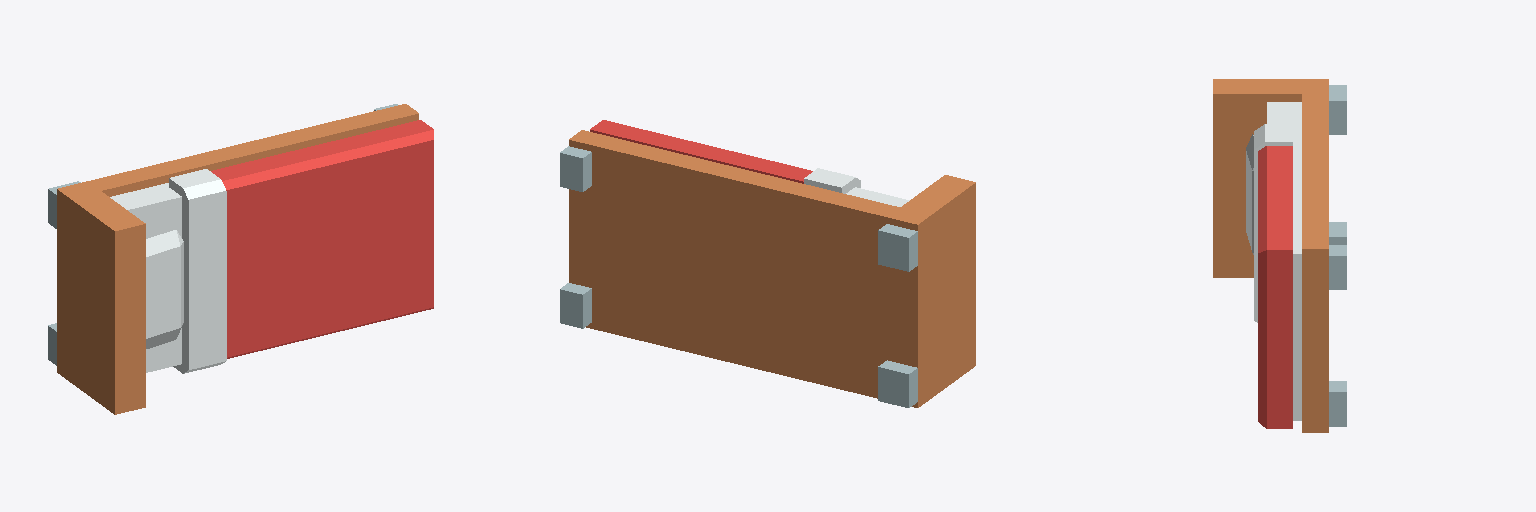
The model's file is bedSingle.obj.
3 views of the same model, side by side, from view 1: azimuth 30°, elevation 25°; view 2: azimuth 150°, elevation 25°; view 3: azimuth 270°, elevation 25° (orthographic).
Visible parts, largest first — view 1: bedSingle; view 2: bedSingle; view 3: bedSingle.
Boxes of the visible parts, x1=… form: bedSingle: x1=48, y1=104, x2=433, y2=414; bedSingle: x1=560, y1=120, x2=975, y2=407; bedSingle: x1=1213, y1=79, x2=1346, y2=432.
Size of the model in its own units: 6.75 by 3.43 by 2.25.